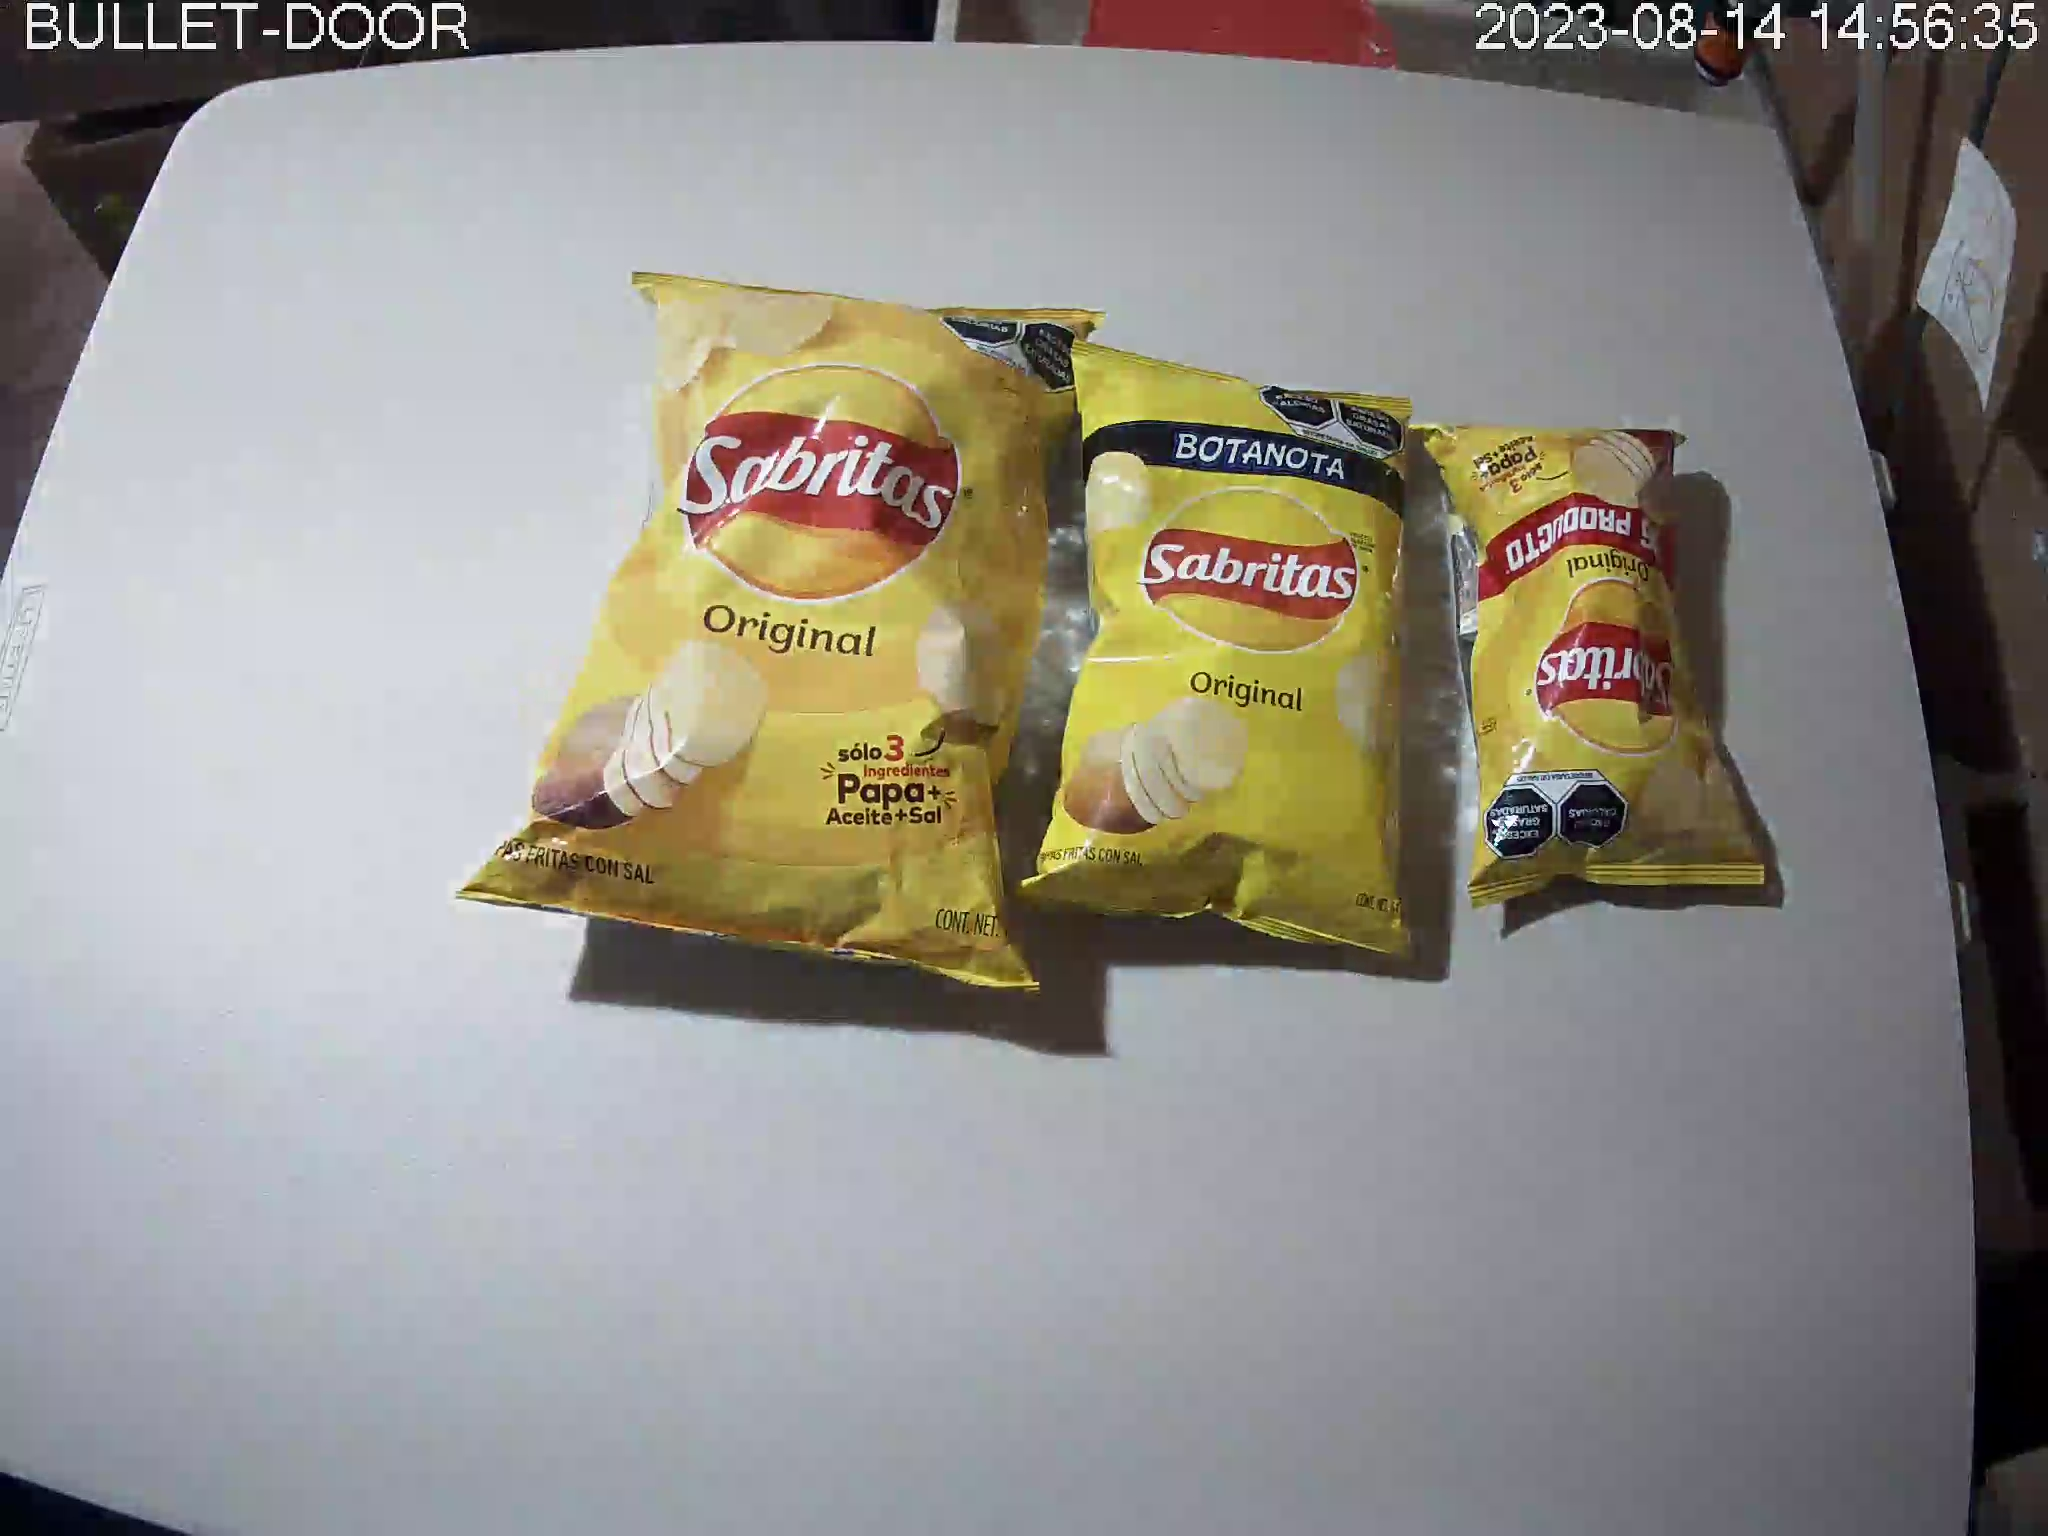Sabritas_160_F: (463, 271, 1108, 995)
Sabritas_45_F: (1401, 418, 1769, 912)
Sabritas_64_F: (1013, 329, 1417, 962)
